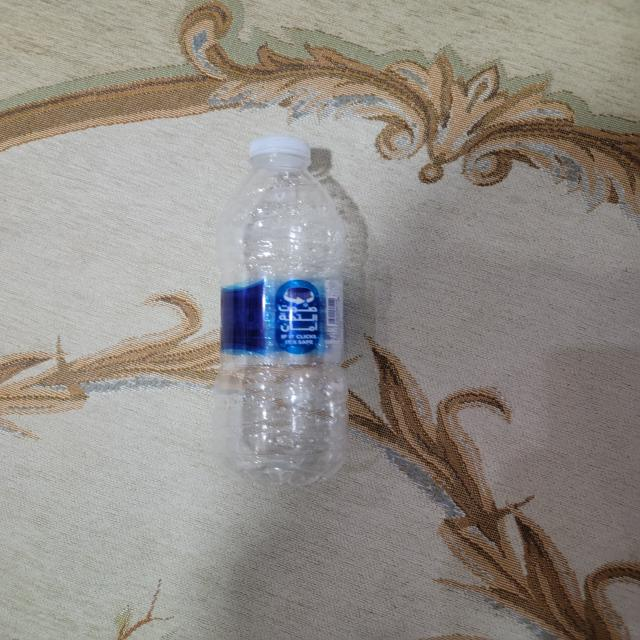Anorganik: (211, 130, 362, 496)
